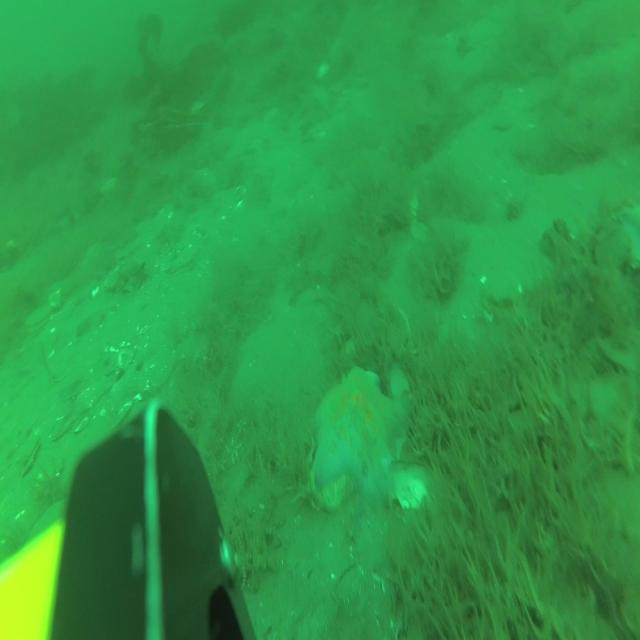scallop: (21, 436, 39, 473), (24, 307, 52, 328), (54, 413, 75, 439)
starfish: (312, 364, 406, 490)
